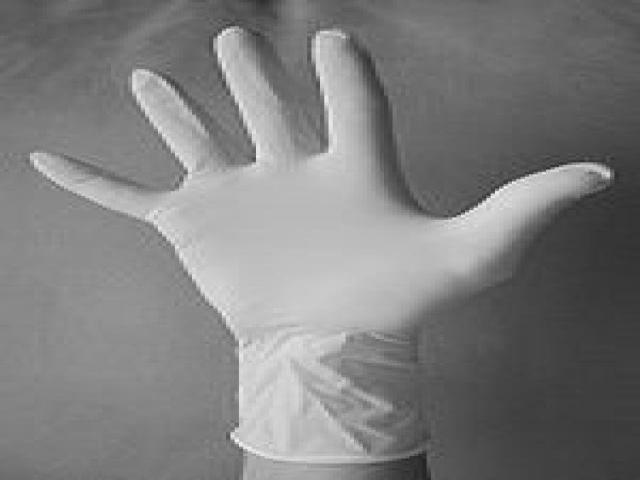gloved: (32, 27, 612, 326)
